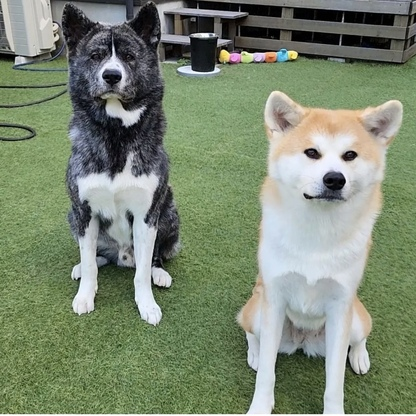akita: (229, 87, 407, 416), (51, 1, 188, 328)
